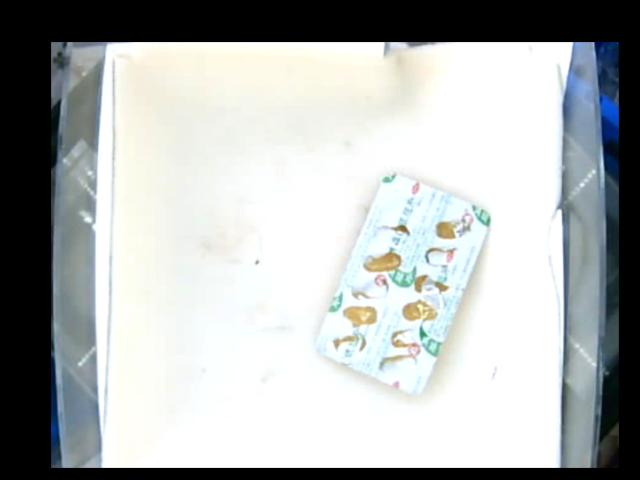Medicine: (319, 176, 491, 396)
